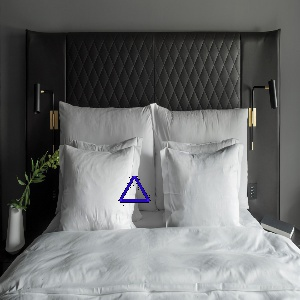triangle: (116, 174, 153, 206)
